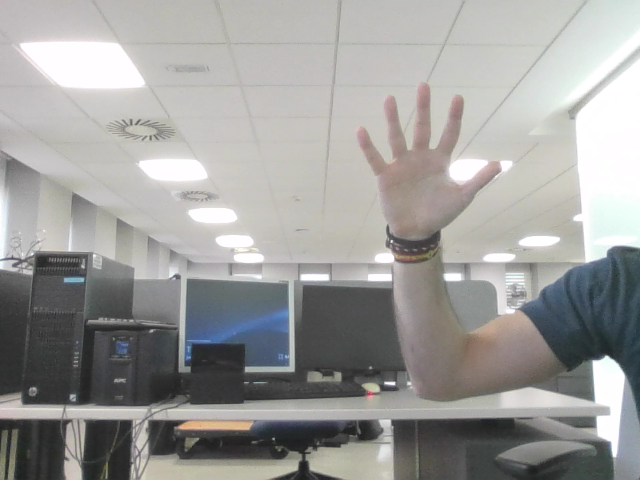Mano Abierta: (367, 95, 490, 211)
